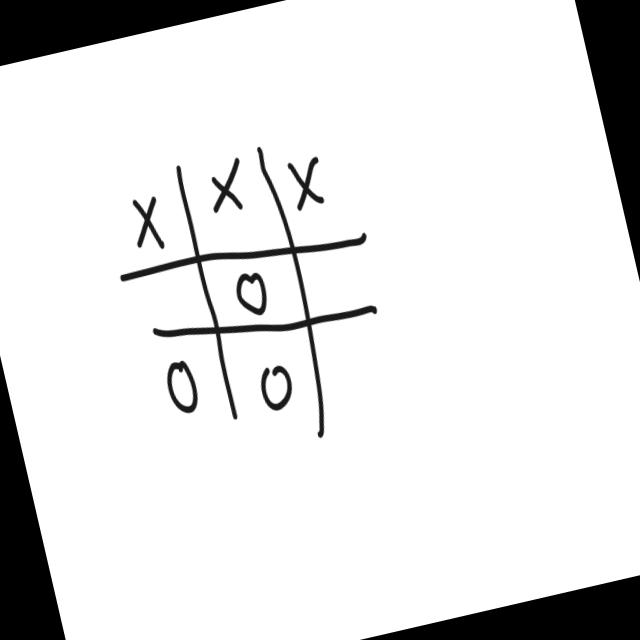O: (152, 336, 215, 444), (216, 253, 282, 329), (246, 350, 306, 421)
X: (108, 172, 176, 266), (190, 146, 264, 231), (276, 143, 344, 224)
grid: (96, 113, 411, 470)
